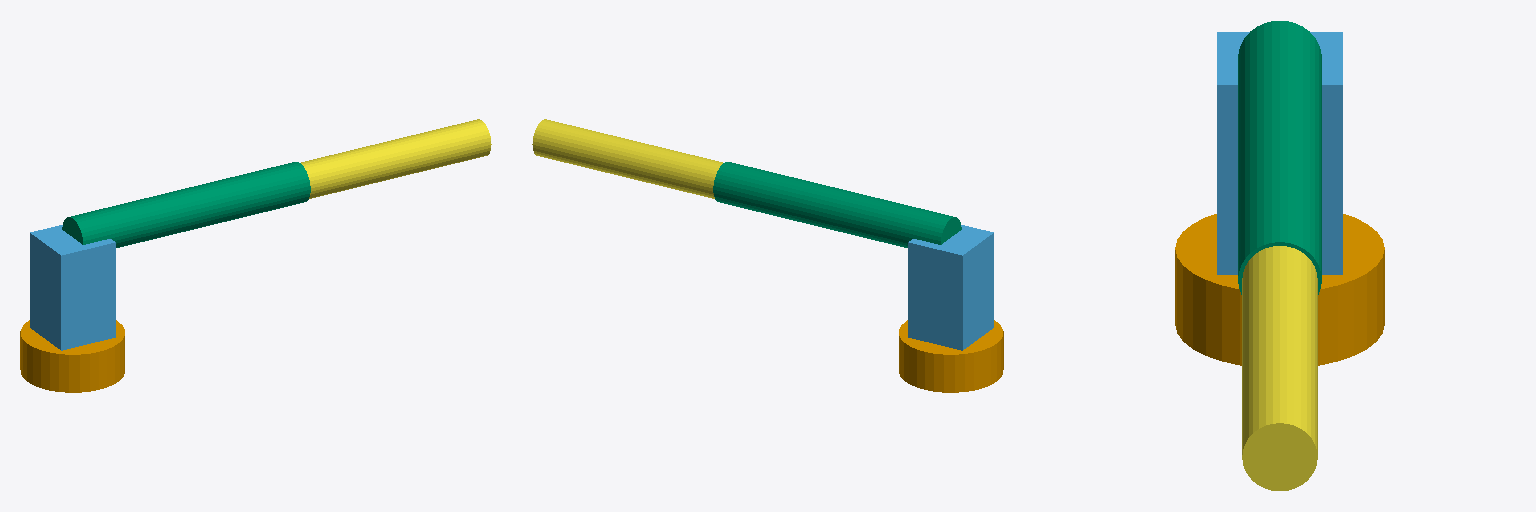
URDF robot description (hobby_arm):
<?xml version="1.0"?>
<!--
  A 3-DoF arm as a hobbyist would actually export it.

  Every defect below is one I have seen in a real, published, downloaded-by-
  thousands URDF.  Nothing here is a strawman.

    D1  inertia tensors are the CAD exporter's placeholder: the identity matrix.
        A 0.6 kg forearm with ixx=iyy=izz=1 has the rotational inertia of a
        cast-iron flywheel.
    D2  <inertial> has no <origin>, so the centre of mass sits at the joint
        instead of half-way down the link.
    D3  <collision> reuses the decorative visual mesh  -  hundreds of triangles
        where a capsule would do.
    D4  no <dynamics> on any joint: zero damping, zero friction.
    D5  the elbow is "continuous", i.e. no limits at all  -  it can wind up
        forever.
    D6  no rotor/gearbox inertia anywhere (URDF has no field for it).
    D7  a fixed joint to a tool frame, which MuJoCo will silently weld away.
    D8  a zero-mass sensor link.

  Geometry IS right  -  link lengths and radii came from the CAD.  That is the
  usual state of a hobby URDF: the shapes are true, the physics is invented.
-->
<robot name="hobby_arm">

  <link name="base_link">
    <visual>
      <geometry><cylinder radius="0.05" length="0.04"/></geometry>
    </visual>
    <collision>
      <geometry><cylinder radius="0.05" length="0.04"/></geometry>
    </collision>
    <inertial>
      <mass value="1.0"/>
      <inertia ixx="1.0" ixy="0.0" ixz="0.0" iyy="1.0" iyz="0.0" izz="1.0"/>
    </inertial>
  </link>

  <!-- shoulder yaw: turns the whole arm about the vertical axis -->
  <joint name="j_yaw" type="revolute">
    <parent link="base_link"/>
    <child link="link1"/>
    <origin xyz="0 0 0.02" rpy="0 0 0"/>
    <axis xyz="0 0 1"/>
    <limit lower="-3.14" upper="3.14" effort="20" velocity="6"/>
    <!-- D4: no <dynamics damping="..." friction="..."/> -->
  </joint>

  <link name="link1">
    <visual>
      <origin xyz="0 0 0.05"/>
      <geometry><box size="0.06 0.06 0.10"/></geometry>
    </visual>
    <collision>
      <origin xyz="0 0 0.05"/>
      <geometry><mesh filename="meshes/link1.obj"/></geometry>  <!-- D3 -->
    </collision>
    <inertial>
      <!-- D2: no <origin>, so COM = joint origin, not 0.05 up the link -->
      <mass value="0.50"/>
      <inertia ixx="1.0" ixy="0.0" ixz="0.0" iyy="1.0" iyz="0.0" izz="1.0"/> <!-- D1 -->
    </inertial>
  </link>

  <!-- shoulder pitch -->
  <joint name="j_shoulder" type="revolute">
    <parent link="link1"/>
    <child link="link2"/>
    <origin xyz="0 0 0.10" rpy="0 0 0"/>
    <axis xyz="0 1 0"/>
    <limit lower="-2.0" upper="2.0" effort="20" velocity="6"/>
  </joint>

  <link name="link2">
    <visual>
      <origin xyz="0.125 0 0" rpy="0 1.5707963 0"/>
      <geometry><cylinder radius="0.020" length="0.25"/></geometry>
    </visual>
    <collision>
      <origin xyz="0.125 0 0" rpy="0 1.5707963 0"/>
      <geometry><mesh filename="meshes/link2.obj"/></geometry>  <!-- D3 -->
    </collision>
    <inertial>
      <mass value="0.60"/>
      <inertia ixx="1.0" ixy="0.0" ixz="0.0" iyy="1.0" iyz="0.0" izz="1.0"/>
    </inertial>
  </link>

  <!-- elbow -->
  <joint name="j_elbow" type="continuous">   <!-- D5: no limits -->
    <parent link="link2"/>
    <child link="link3"/>
    <origin xyz="0.25 0 0" rpy="0 0 0"/>
    <axis xyz="0 1 0"/>
  </joint>

  <link name="link3">
    <visual>
      <origin xyz="0.10 0 0" rpy="0 1.5707963 0"/>
      <geometry><cylinder radius="0.018" length="0.20"/></geometry>
    </visual>
    <collision>
      <origin xyz="0.10 0 0" rpy="0 1.5707963 0"/>
      <geometry><mesh filename="meshes/link3.obj"/></geometry>  <!-- D3 -->
    </collision>
    <inertial>
      <mass value="0.40"/>
      <inertia ixx="1.0" ixy="0.0" ixz="0.0" iyy="1.0" iyz="0.0" izz="1.0"/>
    </inertial>
  </link>

  <!-- D7: fixed joint to the tool frame.  MuJoCo will weld link3 and tool_link
       into ONE body and the frame "tool_link" will stop existing. -->
  <joint name="j_tool" type="fixed">
    <parent link="link3"/>
    <child link="tool_link"/>
    <origin xyz="0.20 0 0" rpy="0 0 0"/>
  </joint>

  <link name="tool_link">
    <inertial>
      <mass value="0.05"/>
      <inertia ixx="1.0" ixy="0.0" ixz="0.0" iyy="1.0" iyz="0.0" izz="1.0"/>
    </inertial>
  </link>

  <!-- D8: a zero-mass link. Harmless behind a fixed joint, fatal behind a
       moving one. -->
  <joint name="j_cam" type="fixed">
    <parent link="link1"/>
    <child link="camera_link"/>
    <origin xyz="0.04 0 0.09" rpy="0 0 0"/>
  </joint>

  <link name="camera_link">
    <inertial>
      <mass value="0.0"/>
      <inertia ixx="0" ixy="0" ixz="0" iyy="0" iyz="0" izz="0"/>
    </inertial>
  </link>

</robot>

--- Facts derived from the render (not from the file) ---
The picture shows the robot from 3 angles, left to right: view 1: azimuth 30°, elevation 25°; view 2: azimuth 150°, elevation 25°; view 3: azimuth 270°, elevation 25°; orthographic projection.
Model hobby_arm with 6 links and 5 joints (2 revolute, 1 continuous, 2 fixed), rooted at base_link, posed all joints at 0.
Visible links, largest first — view 1: link2, link1, link3, base_link; view 2: link2, link1, link3, base_link; view 3: link2, link3, base_link, link1.
Boxes of the visible links, <box> form: link2: <box>62,162,310,247</box>; link1: <box>30,225,115,350</box>; link3: <box>301,119,491,198</box>; base_link: <box>20,320,124,392</box>; link2: <box>713,162,961,247</box>; link1: <box>908,225,993,350</box>; link3: <box>532,119,722,198</box>; base_link: <box>899,320,1003,392</box>; link2: <box>1238,21,1321,294</box>; link3: <box>1242,246,1317,490</box>; base_link: <box>1175,214,1384,365</box>; link1: <box>1217,32,1342,274</box>.
Bounding box of the posed robot: 0.5 × 0.1 × 0.16 m (x, y, z).
Geometry: primitives only (box / cylinder / sphere), no mesh files.
